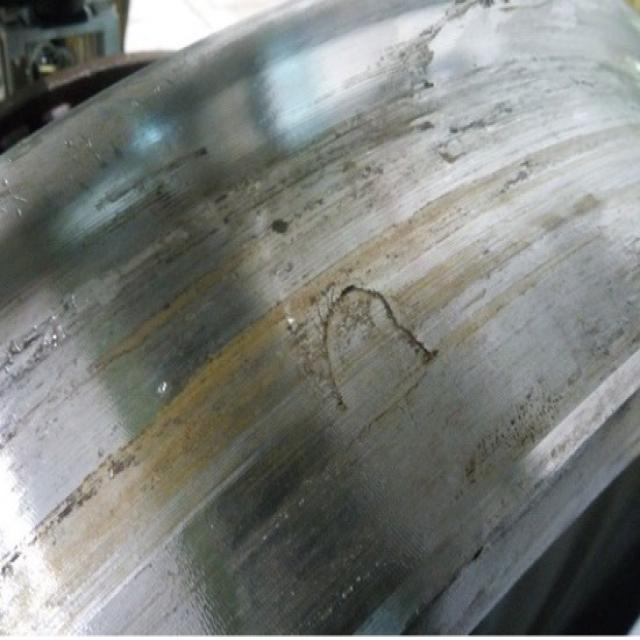Contact_Fatigue_Cracks: (240, 228, 494, 433)
